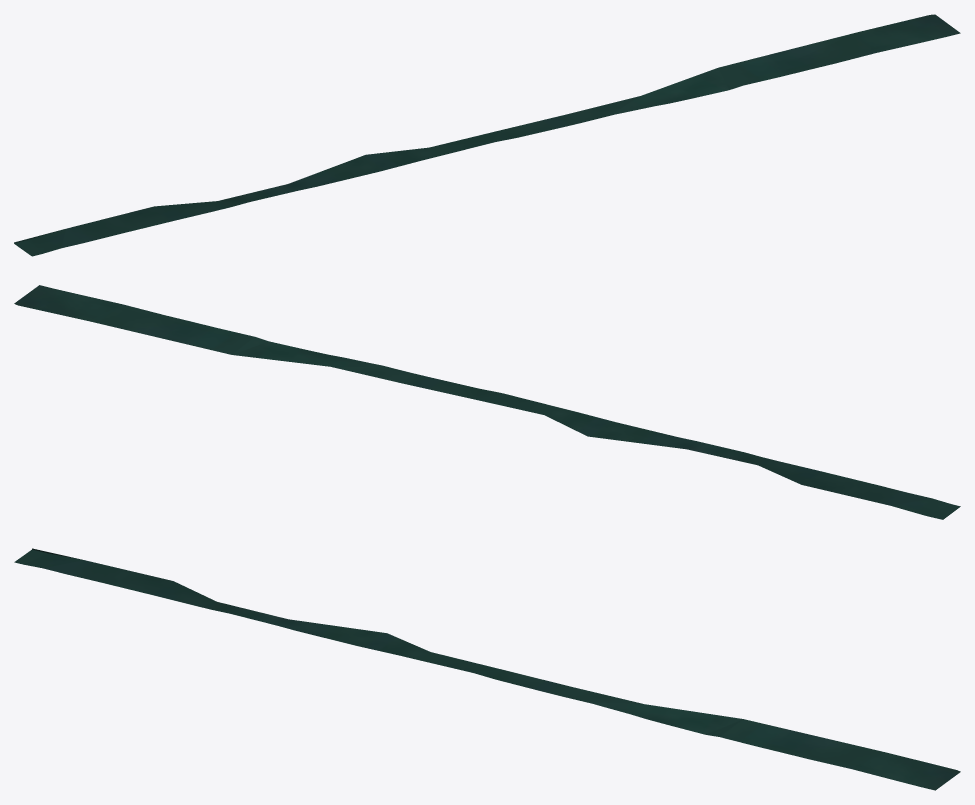
3 views of the same model, one above another, from view 1: azimuth 30°, elevation 25°; view 2: azimuth 150°, elevation 25°; view 3: azimuth 330°, elevation 25° (orthographic).
Bounding box in the file's own units: 52.22 × 0.2811 × 2.59.
Materials: 1 (1 with a texture image).
